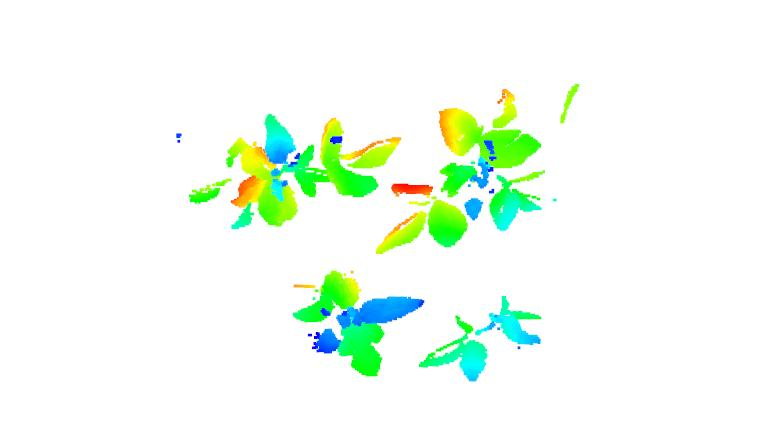mungbean: (373, 89, 547, 260), (187, 108, 405, 231), (290, 266, 423, 379), (417, 290, 547, 382)
